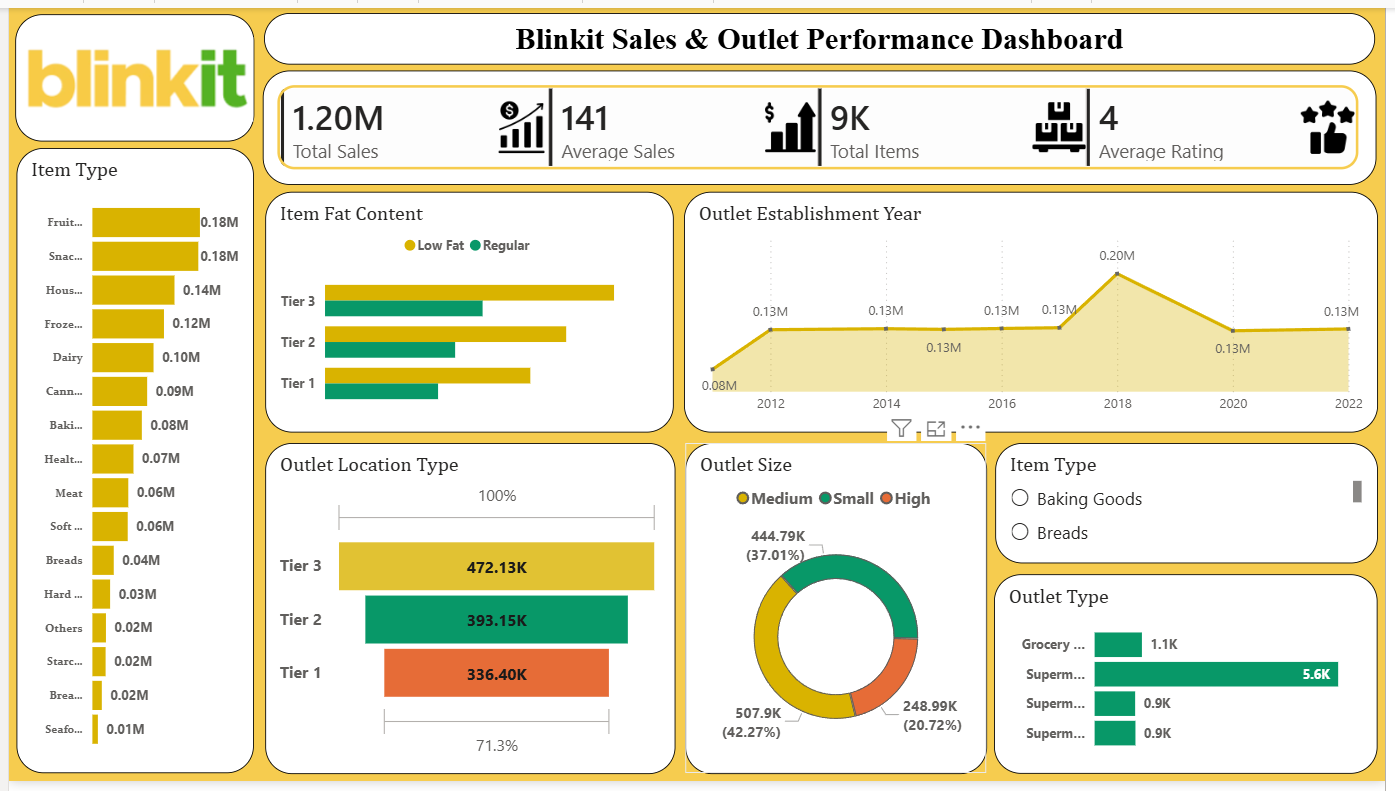

This screenshot's page, from the dashboard's own definition file:
{"tool":"powerbi","page":{"name":"Executive Dashboard","canvas":[1280,720],"ordinal":0},"visuals":[{"type":"shape","box":[5.5,5.5,222.3,118],"z":0},{"type":"cardVisual","fields":{"Data":["BlinkIT Grocery Data.Total Sales","BlinkIT Grocery Data.Average Sales","BlinkIT Grocery Data.Total Items","BlinkIT Grocery Data.Average Rating"]},"box":[236.5,57.9,1036.3,106.2],"z":1000},{"type":"image","box":[11,23.3,216.8,86.4],"z":2000},{"type":"clusteredBarChart","title":"Item Fat Content","fields":{"Category":["BlinkIT Grocery Data.Outlet Location Type"],"Series":["BlinkIT Grocery Data.Item Fat Content"],"Y":["CountNonNull(BlinkIT Grocery Data.Item Type)"]},"box":[238.9,171.3,380,224.4],"z":3000},{"type":"barChart","title":"Item Type","fields":{"Category":["BlinkIT Grocery Data.Item Type"],"Y":["BlinkIT Grocery Data.Total Sales"]},"box":[7,130.2,220.9,581.4],"z":4000},{"type":"lineChart","title":"Outlet Establishment Year","fields":{"Category":["BlinkIT Grocery Data.Outlet Establishment Year"],"Y":["BlinkIT Grocery Data.Total Sales"]},"box":[627.3,171.3,645.4,224.4],"z":5000},{"type":"donutChart","title":" Outlet Size","fields":{"Category":["BlinkIT Grocery Data.Outlet Size"],"Y":["BlinkIT Grocery Data.Total Sales"]},"box":[628.6,404.2,281.1,307.6],"z":6000},{"type":"funnel","title":" Outlet Location Type","fields":{"Category":["BlinkIT Grocery Data.Outlet Location Type"],"Y":["Sum(BlinkIT Grocery Data.Sales)"]},"box":[238.9,404.2,381.2,307.6],"z":7000},{"type":"clusteredBarChart","title":" Outlet Type","fields":{"Category":["BlinkIT Grocery Data.Outlet Type"],"Y":["BlinkIT Grocery Data.Total Items"]},"box":[916.6,526.9,356.8,185.2],"z":8000},{"type":"listSlicer","fields":{"Values":["BlinkIT Grocery Data.Item Type"]},"box":[917.4,404.7,355.8,111.6],"z":9000},{"type":"shape","box":[237.7,4.8,1033.9,48.3],"z":10000}]}

Visuals, with their boxes in screenshot pixels (x1, y1, x2, y2), scaled from the page's 1280x720 canvas onto the 1395x791 screenshot:
shape: crop(6, 6, 248, 136)
cardVisual - BlinkIT Grocery Data.Total Sales x BlinkIT Grocery Data.Average Sales: crop(258, 64, 1387, 180)
image: crop(12, 26, 248, 121)
"Item Fat Content" clusteredBarChart: crop(260, 188, 675, 435)
"Item Type" barChart: crop(8, 143, 248, 782)
"Outlet Establishment Year" lineChart: crop(684, 188, 1387, 435)
" Outlet Size" donutChart: crop(685, 444, 991, 782)
" Outlet Location Type" funnel: crop(260, 444, 676, 782)
" Outlet Type" clusteredBarChart: crop(999, 579, 1388, 782)
listSlicer - BlinkIT Grocery Data.Item Type: crop(1000, 445, 1388, 567)
shape: crop(259, 5, 1386, 58)
